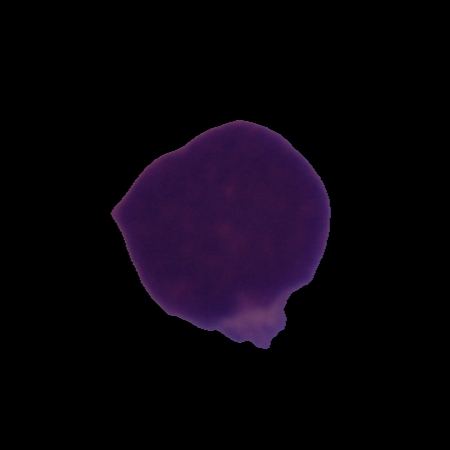ALL: (107, 115, 335, 354)
